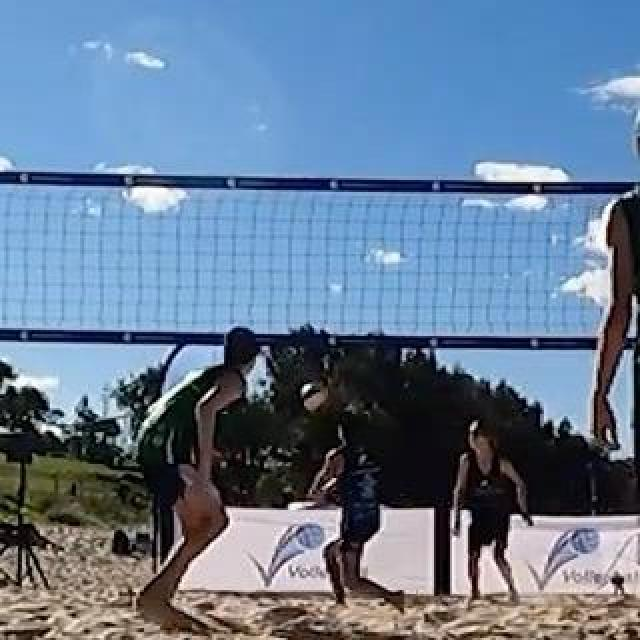volleyball: (301, 382, 331, 412)
